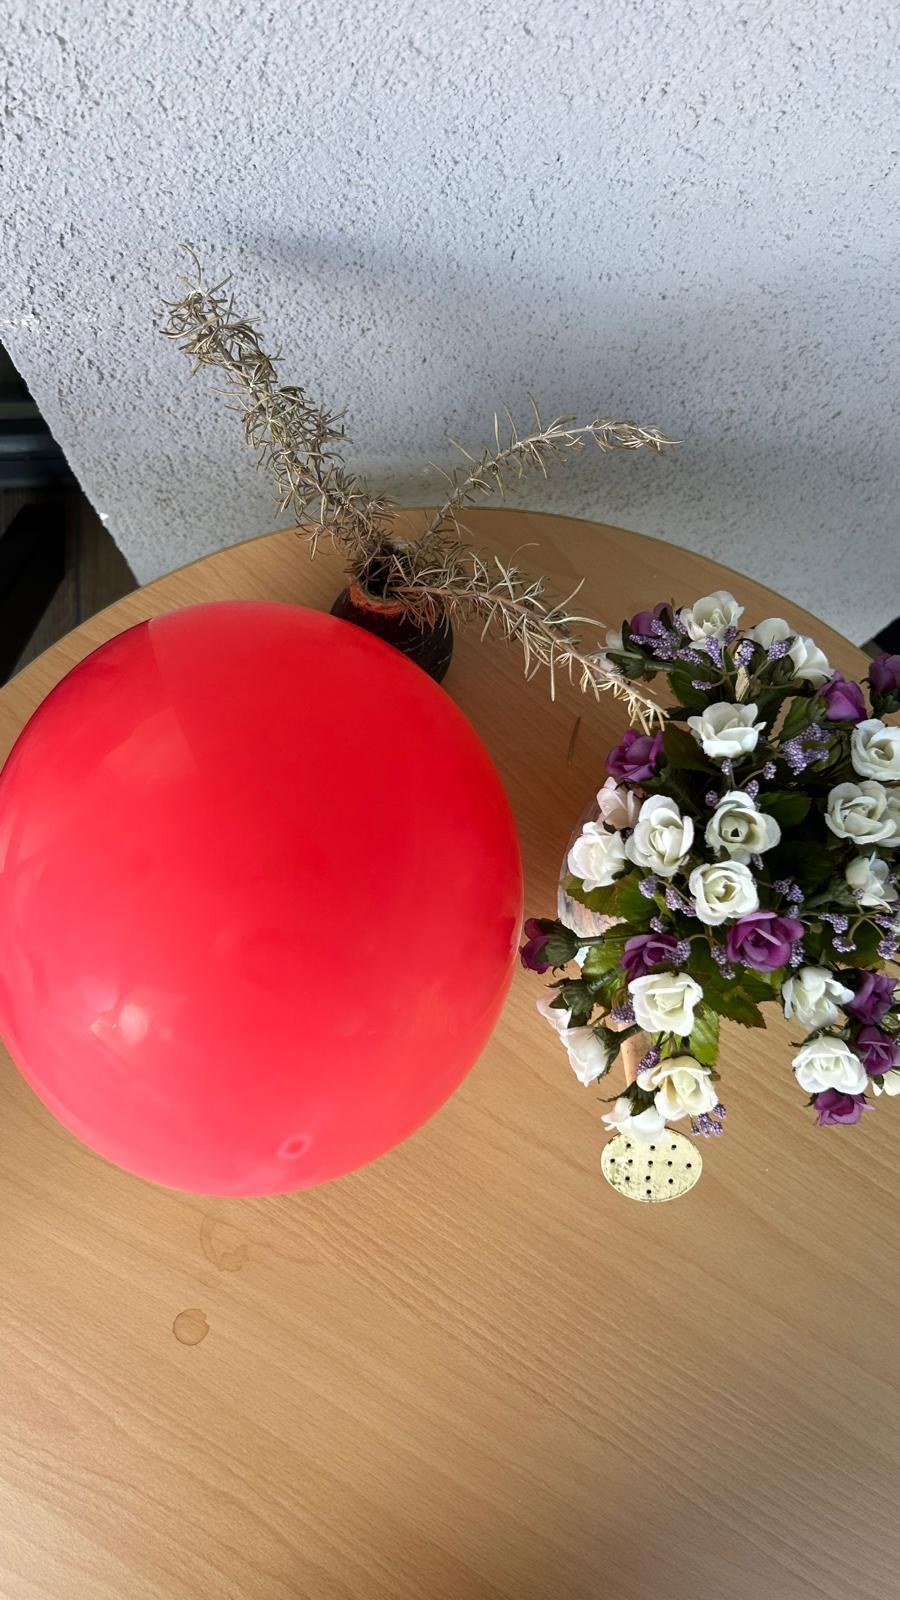red: (4, 595, 532, 1200)
